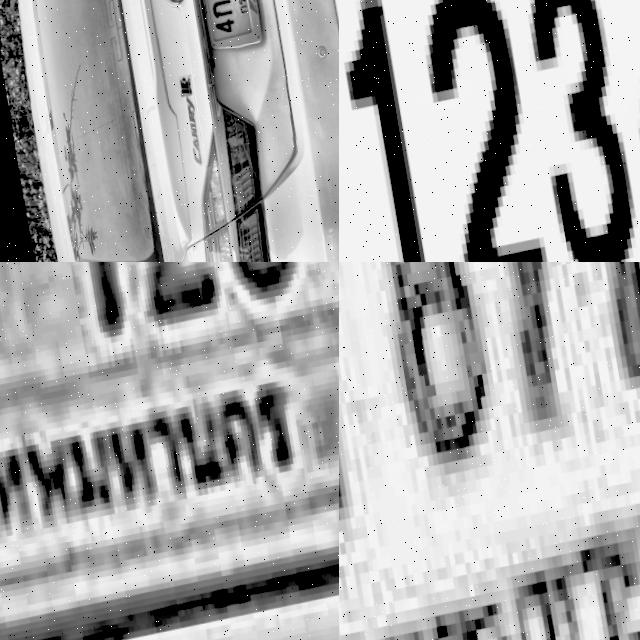license-plate: (0, 262, 339, 640), (339, 262, 640, 640), (339, 0, 640, 262), (133, 0, 269, 110)
